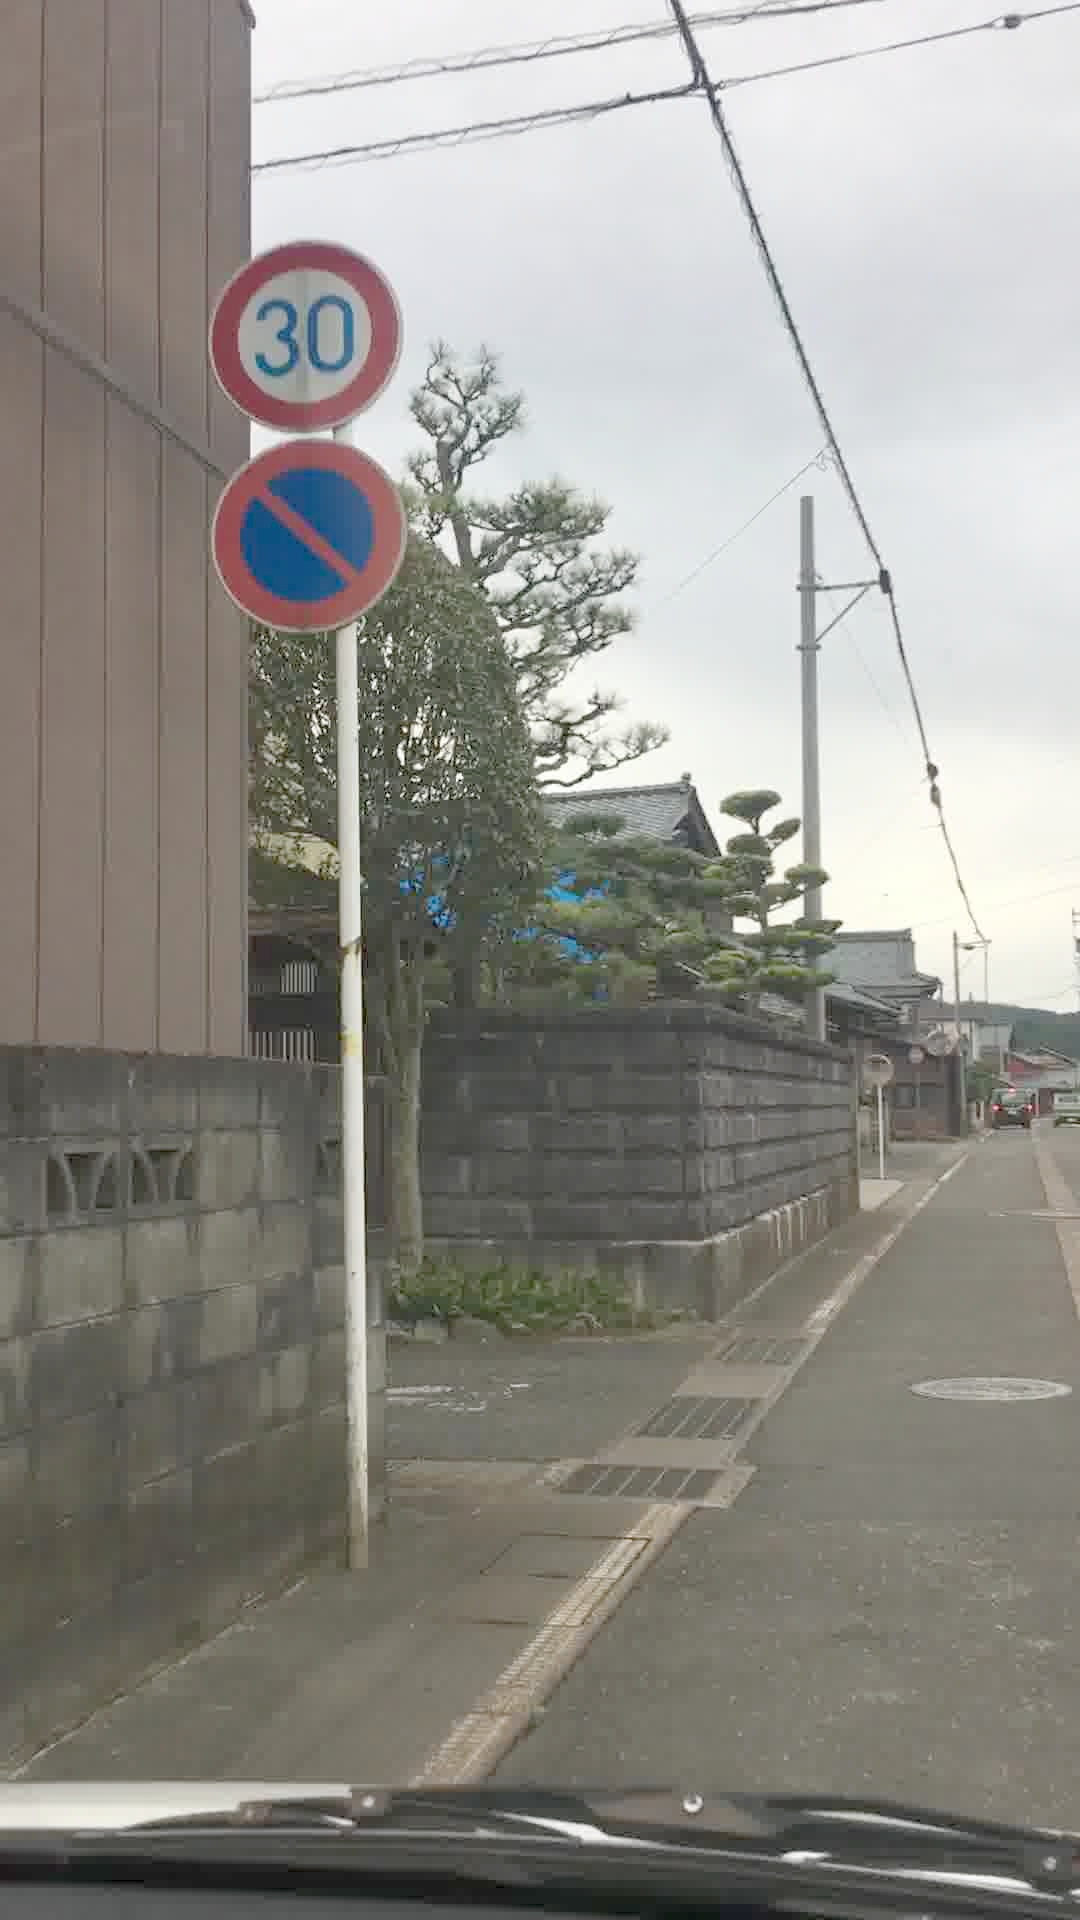Prohibition_sign: (204, 438, 433, 640)
Speed_sign: (204, 228, 410, 426)
